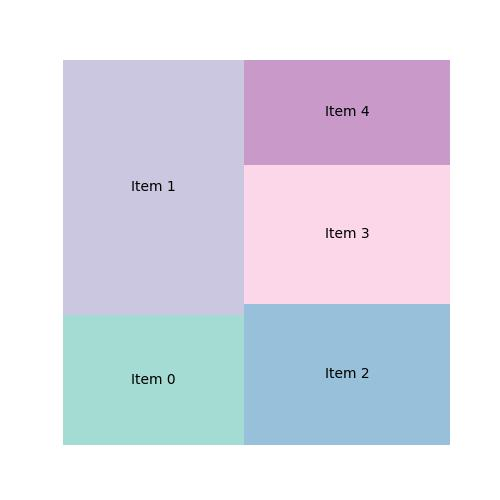rectangle: (63, 59, 244, 316), (244, 304, 450, 446), (244, 166, 451, 303), (64, 316, 243, 444), (244, 59, 451, 166)
